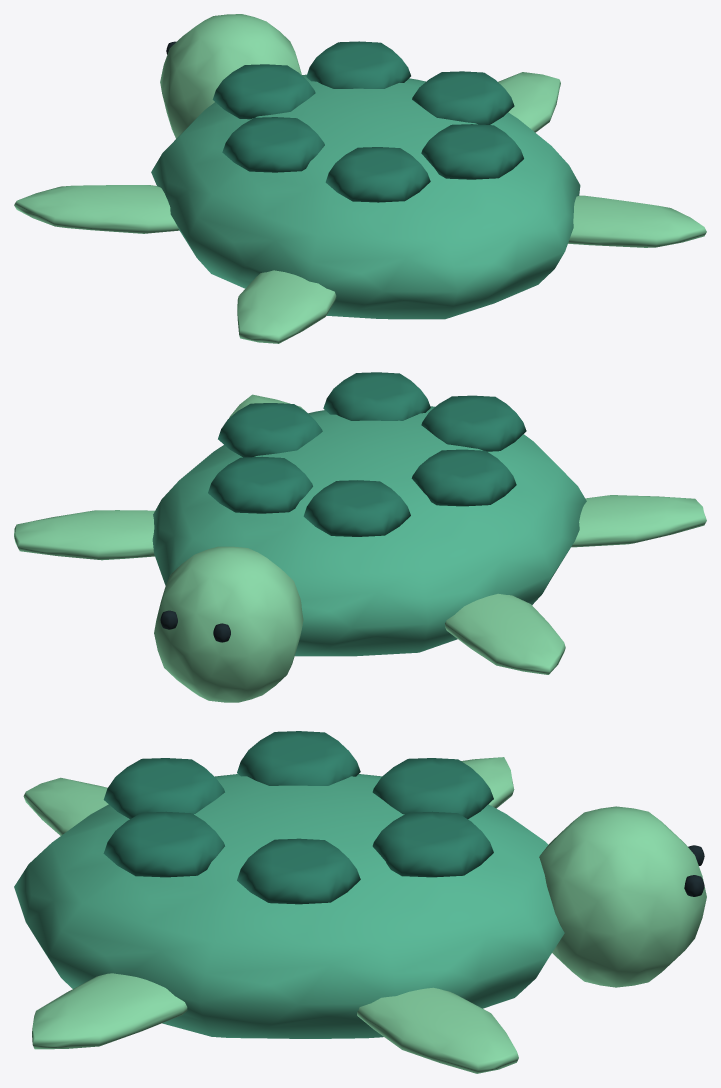
The model's file is turtle.glb.
3 renders of one model, top to bottom at view 1: azimuth 30°, elevation 25°; view 2: azimuth 150°, elevation 25°; view 3: azimuth 270°, elevation 25°, orthographic. The views are drawn at different scales.
Visible parts, largest first — view 1: turtle_part_0, turtle_part_7, turtle_part_10, turtle_part_13, turtle_part_12, turtle_part_3, turtle_part_2, turtle_part_4, turtle_part_5, turtle_part_1, turtle_part_6, turtle_part_11; view 2: turtle_part_0, turtle_part_7, turtle_part_10, turtle_part_11, turtle_part_12, turtle_part_5, turtle_part_6, turtle_part_4, turtle_part_3, turtle_part_1, turtle_part_2; view 3: turtle_part_0, turtle_part_7, turtle_part_11, turtle_part_13, turtle_part_1, turtle_part_2, turtle_part_6, turtle_part_5, turtle_part_3, turtle_part_4, turtle_part_12, turtle_part_10.
Boxes of the visible parts, x1=… form: turtle_part_0: x1=151, y1=74, x2=580, y2=319; turtle_part_7: x1=160, y1=14, x2=301, y2=138; turtle_part_10: x1=14, y1=185, x2=179, y2=233; turtle_part_13: x1=568, y1=195, x2=706, y2=247; turtle_part_12: x1=237, y1=270, x2=336, y2=343; turtle_part_3: x1=325, y1=147, x2=430, y2=202; turtle_part_2: x1=421, y1=124, x2=523, y2=179; turtle_part_4: x1=222, y1=117, x2=324, y2=172; turtle_part_5: x1=212, y1=64, x2=315, y2=119; turtle_part_1: x1=412, y1=71, x2=514, y2=124; turtle_part_6: x1=306, y1=41, x2=410, y2=88; turtle_part_11: x1=498, y1=72, x2=560, y2=132; turtle_part_0: x1=152, y1=406, x2=586, y2=656; turtle_part_7: x1=154, y1=546, x2=303, y2=702; turtle_part_10: x1=445, y1=593, x2=565, y2=674; turtle_part_11: x1=14, y1=510, x2=154, y2=560; turtle_part_12: x1=571, y1=495, x2=706, y2=547; turtle_part_5: x1=303, y1=480, x2=410, y2=536; turtle_part_6: x1=208, y1=456, x2=312, y2=513; turtle_part_4: x1=411, y1=449, x2=516, y2=506; turtle_part_3: x1=421, y1=395, x2=526, y2=451; turtle_part_1: x1=218, y1=403, x2=322, y2=457; turtle_part_2: x1=323, y1=372, x2=430, y2=420; turtle_part_0: x1=14, y1=774, x2=564, y2=1038; turtle_part_7: x1=539, y1=806, x2=706, y2=987; turtle_part_11: x1=357, y1=987, x2=518, y2=1073; turtle_part_13: x1=32, y1=973, x2=187, y2=1049; turtle_part_1: x1=237, y1=838, x2=360, y2=904; turtle_part_2: x1=103, y1=811, x2=224, y2=877; turtle_part_6: x1=372, y1=811, x2=493, y2=877; turtle_part_5: x1=372, y1=758, x2=493, y2=818; turtle_part_3: x1=103, y1=758, x2=224, y2=818; turtle_part_4: x1=237, y1=731, x2=360, y2=785; turtle_part_12: x1=23, y1=777, x2=108, y2=835; turtle_part_10: x1=461, y1=757, x2=514, y2=808.
Size of the model in its own units: 2.39 by 0.7079 by 2.27.
